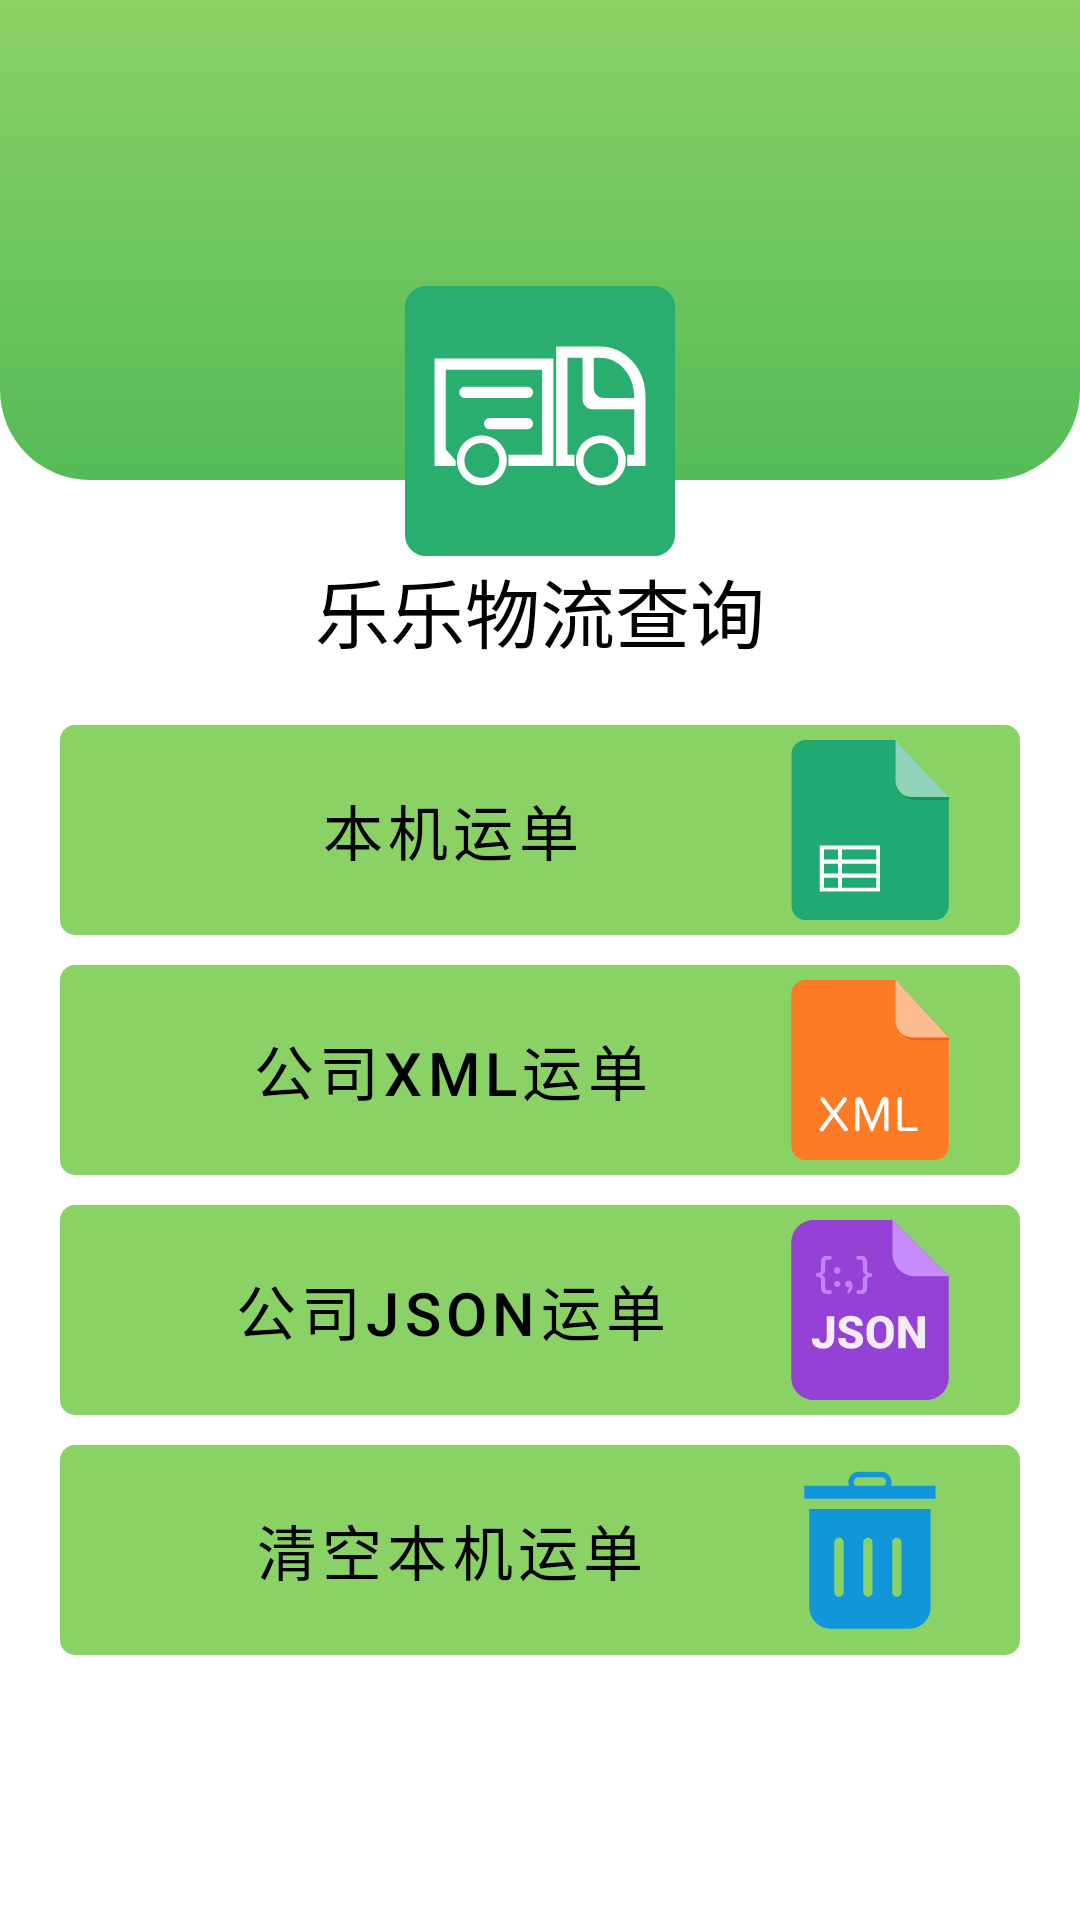

Screen size 1080px x 1920px. Icon name, then its center in pixels as (x,y):
delete: (870,1550)
file: (870,830)
